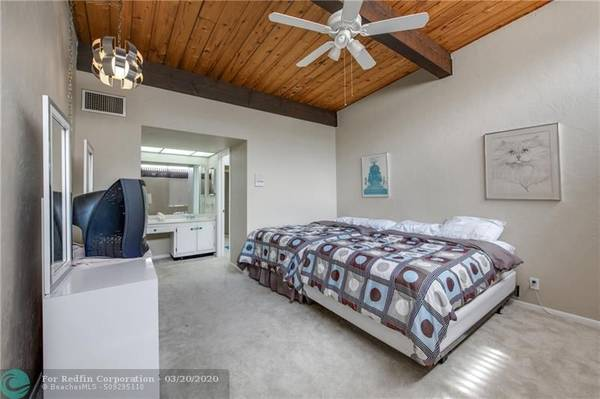bed: (247, 222, 520, 370)
dresser: (42, 251, 161, 399)
frame: (483, 123, 562, 201)
